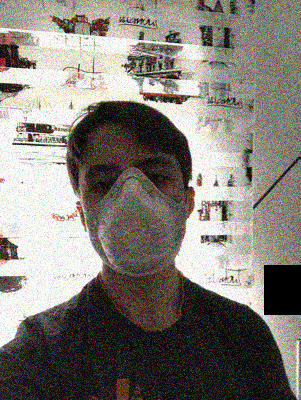with_mask: (81, 143, 187, 277)
